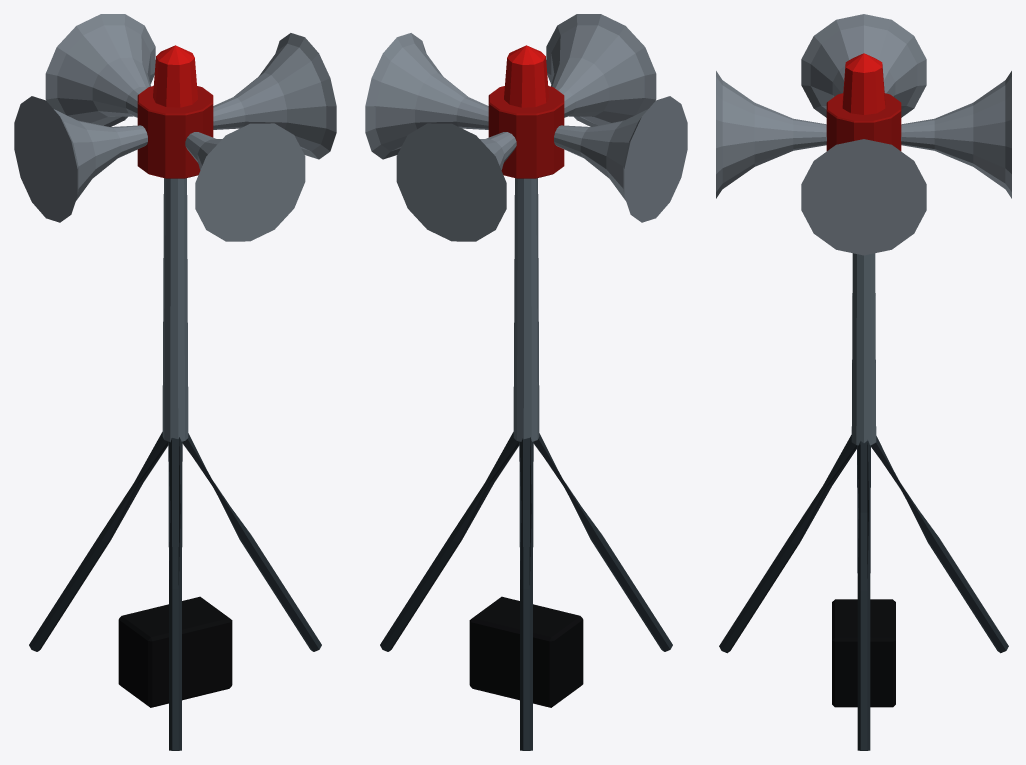
The model's file is RESCUE_04_WarningSiren.obj.
The picture shows the model from 3 angles, left to right: view 1: azimuth 30°, elevation 25°; view 2: azimuth 150°, elevation 25°; view 3: azimuth 270°, elevation 25°; orthographic projection.
Parts seen in each view (by area): view 1: RESCUE_04_WarningSiren_Horns, RESCUE_04_WarningSiren_Tripod, RESCUE_04_WarningSiren_Battery_Box, RESCUE_04_WarningSiren_Mast, RESCUE_04_WarningSiren_Siren_Head, RESCUE_04_WarningSiren_Beacon; view 2: RESCUE_04_WarningSiren_Horns, RESCUE_04_WarningSiren_Tripod, RESCUE_04_WarningSiren_Battery_Box, RESCUE_04_WarningSiren_Mast, RESCUE_04_WarningSiren_Siren_Head, RESCUE_04_WarningSiren_Beacon; view 3: RESCUE_04_WarningSiren_Horns, RESCUE_04_WarningSiren_Tripod, RESCUE_04_WarningSiren_Battery_Box, RESCUE_04_WarningSiren_Mast, RESCUE_04_WarningSiren_Siren_Head, RESCUE_04_WarningSiren_Beacon.
Part boxes in pixels (bbox=[...]): RESCUE_04_WarningSiren_Horns: bbox=[14, 14, 336, 241]; RESCUE_04_WarningSiren_Tripod: bbox=[29, 432, 321, 750]; RESCUE_04_WarningSiren_Battery_Box: bbox=[118, 596, 232, 707]; RESCUE_04_WarningSiren_Mast: bbox=[162, 178, 188, 442]; RESCUE_04_WarningSiren_Siren_Head: bbox=[137, 86, 213, 178]; RESCUE_04_WarningSiren_Beacon: bbox=[153, 45, 197, 107]; RESCUE_04_WarningSiren_Horns: bbox=[365, 14, 687, 241]; RESCUE_04_WarningSiren_Tripod: bbox=[380, 432, 672, 750]; RESCUE_04_WarningSiren_Battery_Box: bbox=[469, 596, 583, 707]; RESCUE_04_WarningSiren_Mast: bbox=[513, 178, 539, 441]; RESCUE_04_WarningSiren_Siren_Head: bbox=[488, 86, 564, 178]; RESCUE_04_WarningSiren_Beacon: bbox=[504, 45, 548, 107]; RESCUE_04_WarningSiren_Horns: bbox=[716, 14, 1011, 255]; RESCUE_04_WarningSiren_Tripod: bbox=[719, 435, 1008, 750]; RESCUE_04_WarningSiren_Battery_Box: bbox=[832, 599, 895, 707]; RESCUE_04_WarningSiren_Mast: bbox=[851, 253, 876, 445]; RESCUE_04_WarningSiren_Siren_Head: bbox=[826, 93, 901, 150]; RESCUE_04_WarningSiren_Beacon: bbox=[842, 53, 885, 114].
Size of the model in its own units: 0.975 by 2.18 by 0.92.
